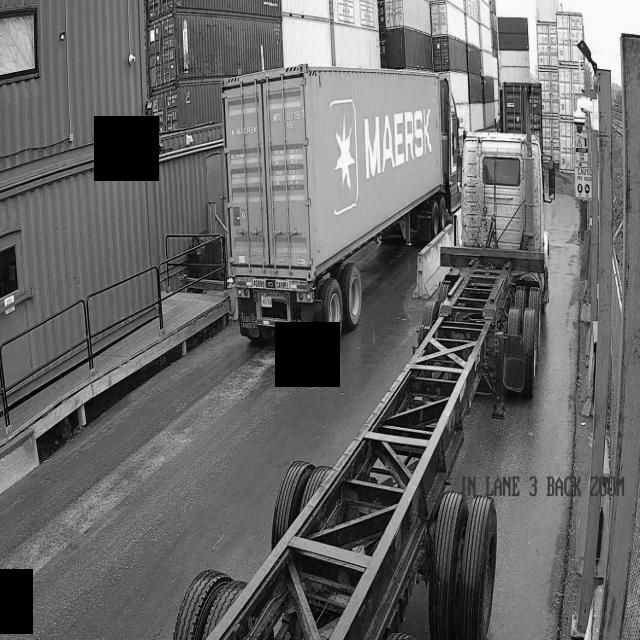container_company_logo: (331, 98, 439, 215)
truck_with_container: (223, 65, 461, 348)
truck_without_container: (201, 113, 555, 640)
